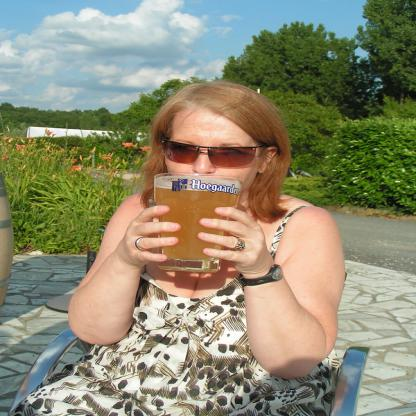drinking: (154, 172, 242, 273)
